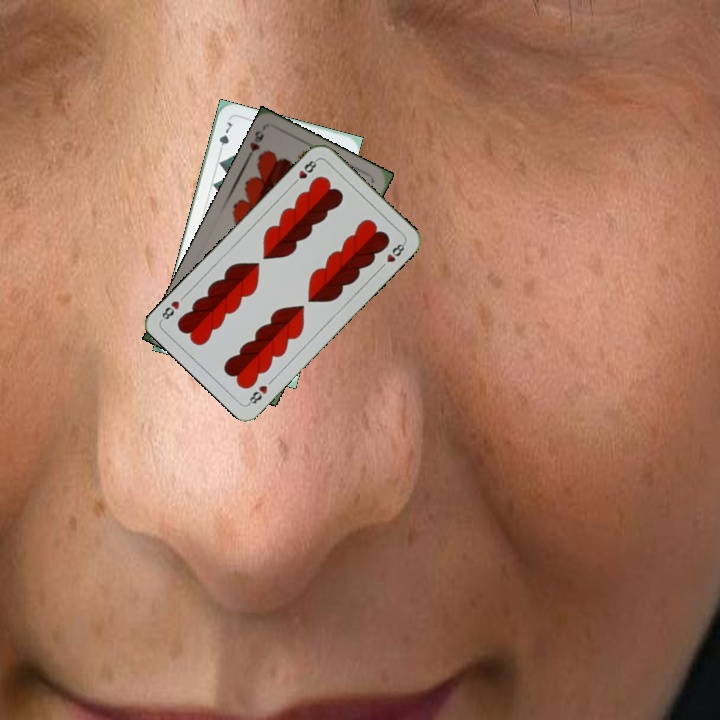G7: (215, 118, 235, 157)
H8: (288, 155, 320, 188), (245, 381, 270, 407)
H9: (243, 126, 267, 162)
